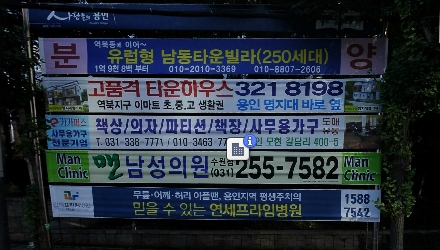banner: (34, 179, 392, 229), (27, 109, 404, 156), (24, 30, 399, 77), (22, 75, 395, 117), (29, 141, 400, 183)
